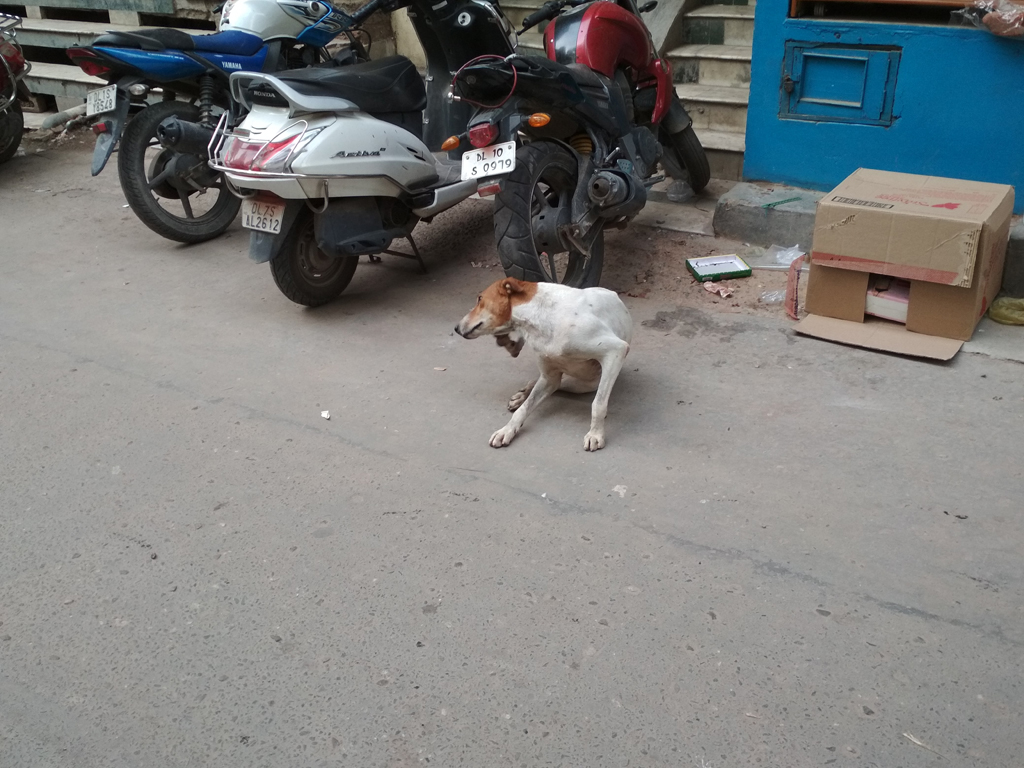dog: (453, 276, 632, 453)
